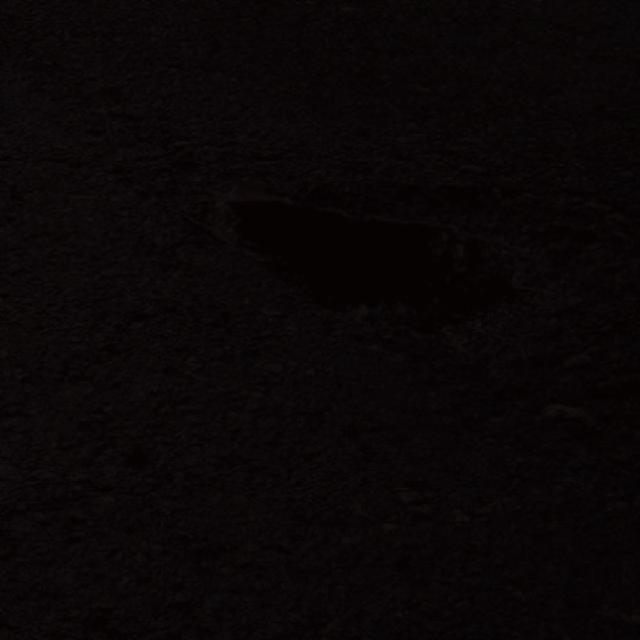Pothole: (182, 147, 530, 379)
